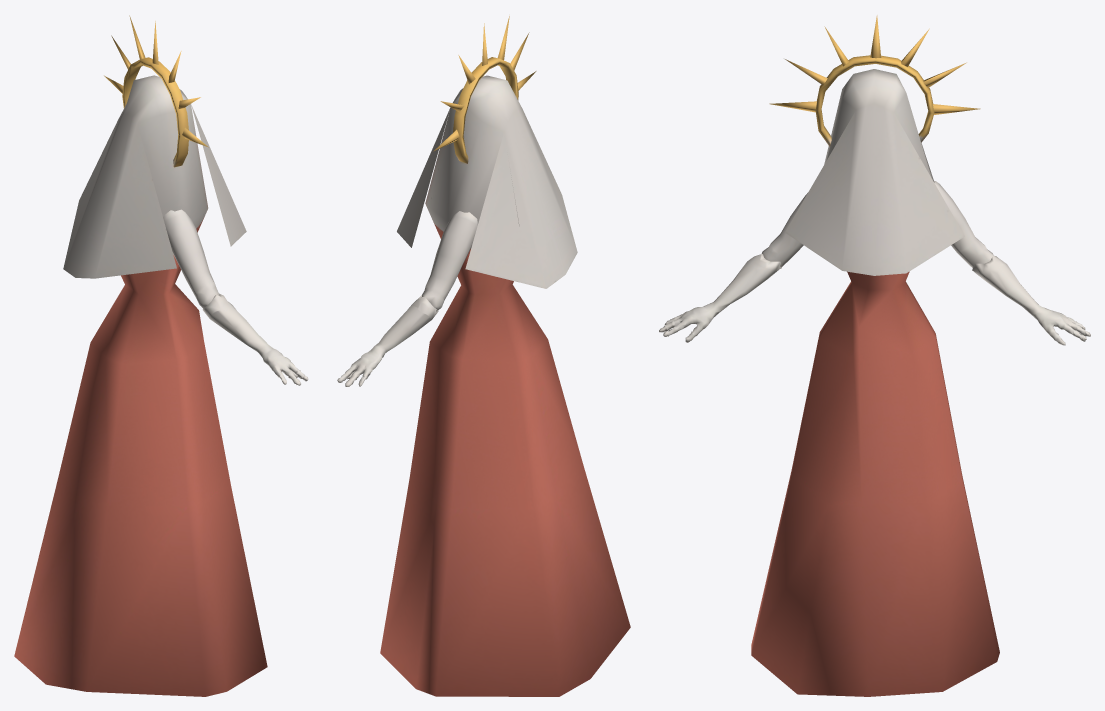
3 renders of one model, left to right at view 1: azimuth 30°, elevation 25°; view 2: azimuth 150°, elevation 25°; view 3: azimuth 270°, elevation 25°, orthographic. The views are drawn at different scales.
Visible parts, largest first — view 1: tripo_node_9658311b-dd99-4ed4-80ec-16178115e758; view 2: tripo_node_9658311b-dd99-4ed4-80ec-16178115e758; view 3: tripo_node_9658311b-dd99-4ed4-80ec-16178115e758.
Boxes of the visible parts, box(x1,y1,x2,y2) form: tripo_node_9658311b-dd99-4ed4-80ec-16178115e758: box(14, 15, 308, 696); tripo_node_9658311b-dd99-4ed4-80ec-16178115e758: box(337, 16, 630, 696); tripo_node_9658311b-dd99-4ed4-80ec-16178115e758: box(659, 15, 1090, 696).
Bounding box in the file's own units: 0.2988 × 0.998 × 0.6035.
Materials: 1 (1 with a texture image).
